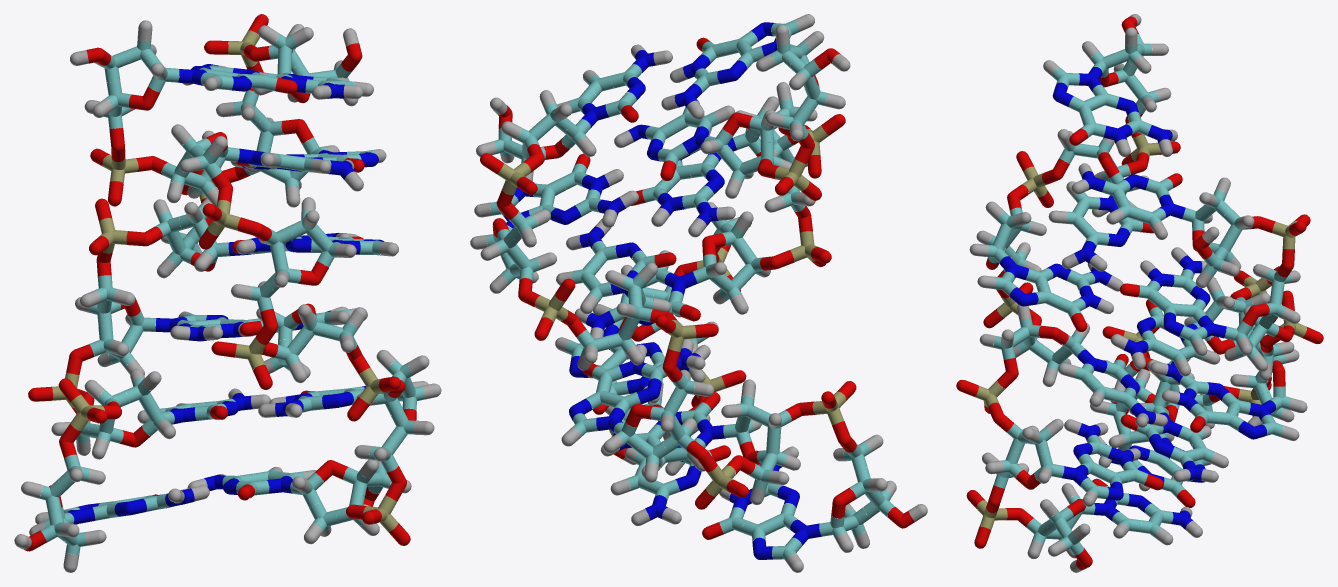
Rendered from z-dna.gltf.
The picture shows the model from 3 angles, left to right: view 1: azimuth 30°, elevation 25°; view 2: azimuth 150°, elevation 25°; view 3: azimuth 270°, elevation 25°; orthographic projection. The views are drawn at different scales.
Parts seen in each view (by area): view 1: vmd_mol2_rep0; view 2: vmd_mol2_rep0; view 3: vmd_mol2_rep0.
Part boxes in pixels (x1,y1,x2,y2): vmd_mol2_rep0: (14,14,441,572); vmd_mol2_rep0: (470,14,927,572); vmd_mol2_rep0: (956,14,1323,572).
Bounding box in the file's own units: 1.26 × 1.52 × 1.08.
